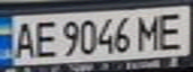0: (78, 16, 100, 56)
4: (97, 15, 118, 55)
6: (112, 14, 136, 54)
9: (57, 17, 81, 57)
A: (9, 18, 39, 61)
E: (154, 8, 190, 51), (30, 17, 60, 60)
M: (133, 11, 166, 52)
